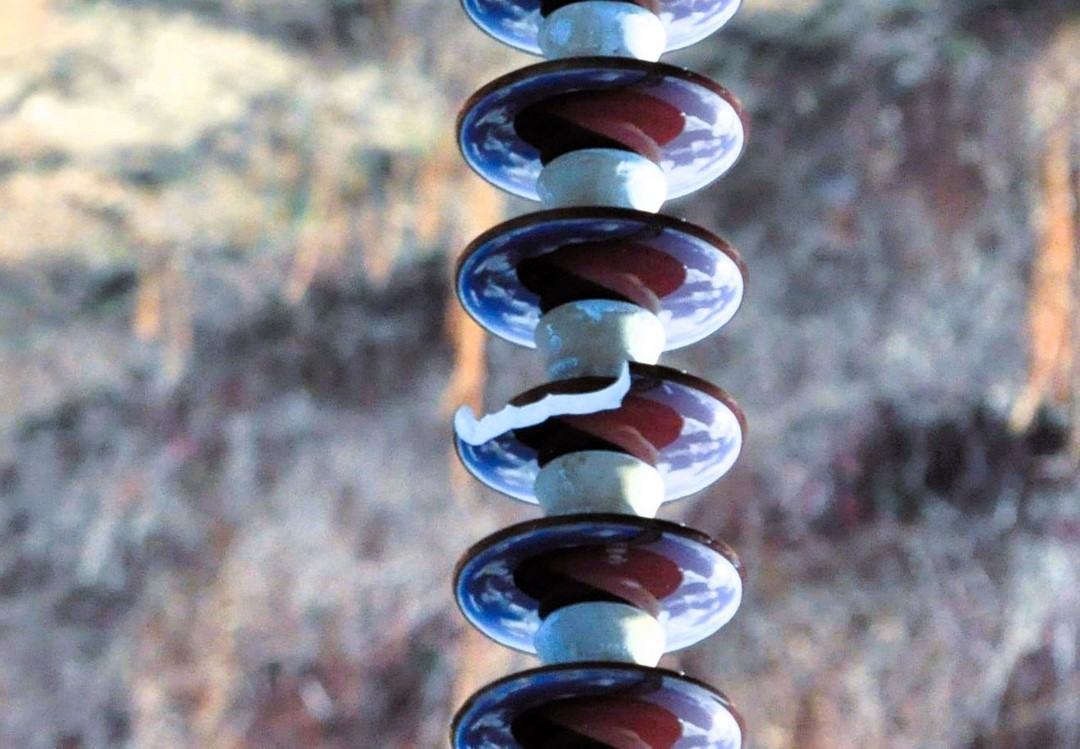insulator breakage: (444, 356, 754, 511)
